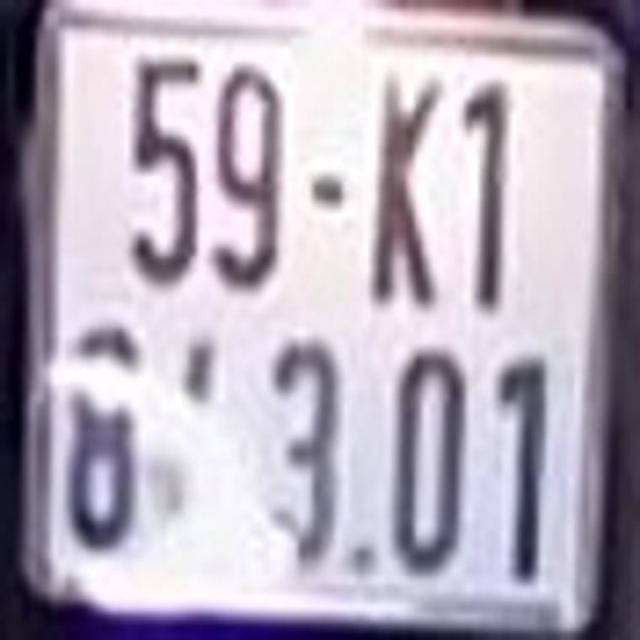0: (388, 331, 467, 576)
1: (458, 59, 520, 312), (494, 336, 554, 586)
3: (266, 322, 340, 570)
5: (128, 41, 202, 297)
8: (61, 310, 140, 550)
9: (210, 41, 284, 298)
K: (368, 61, 451, 316)
